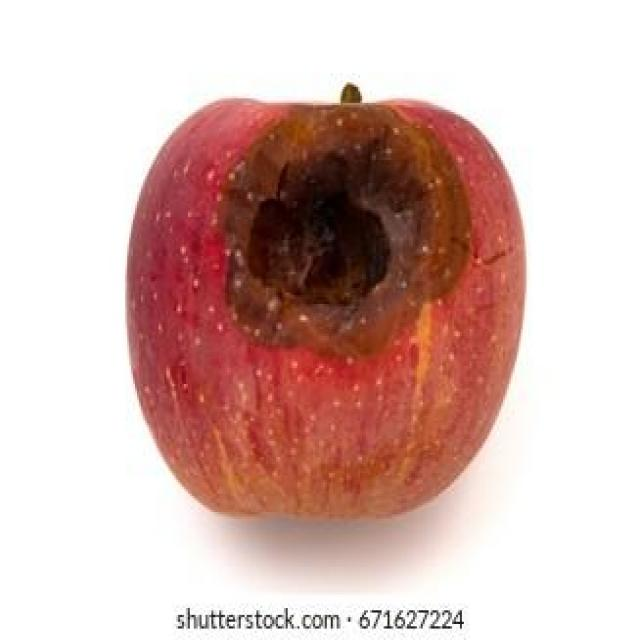Rotten: (127, 86, 526, 535)
